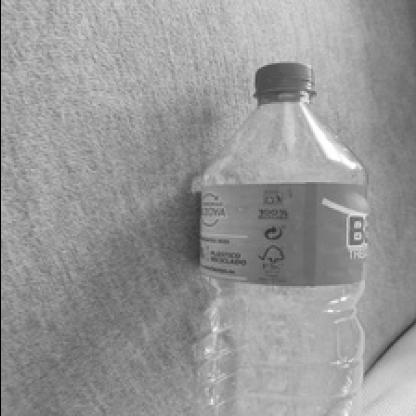plastic_bottles: (190, 54, 372, 415)
